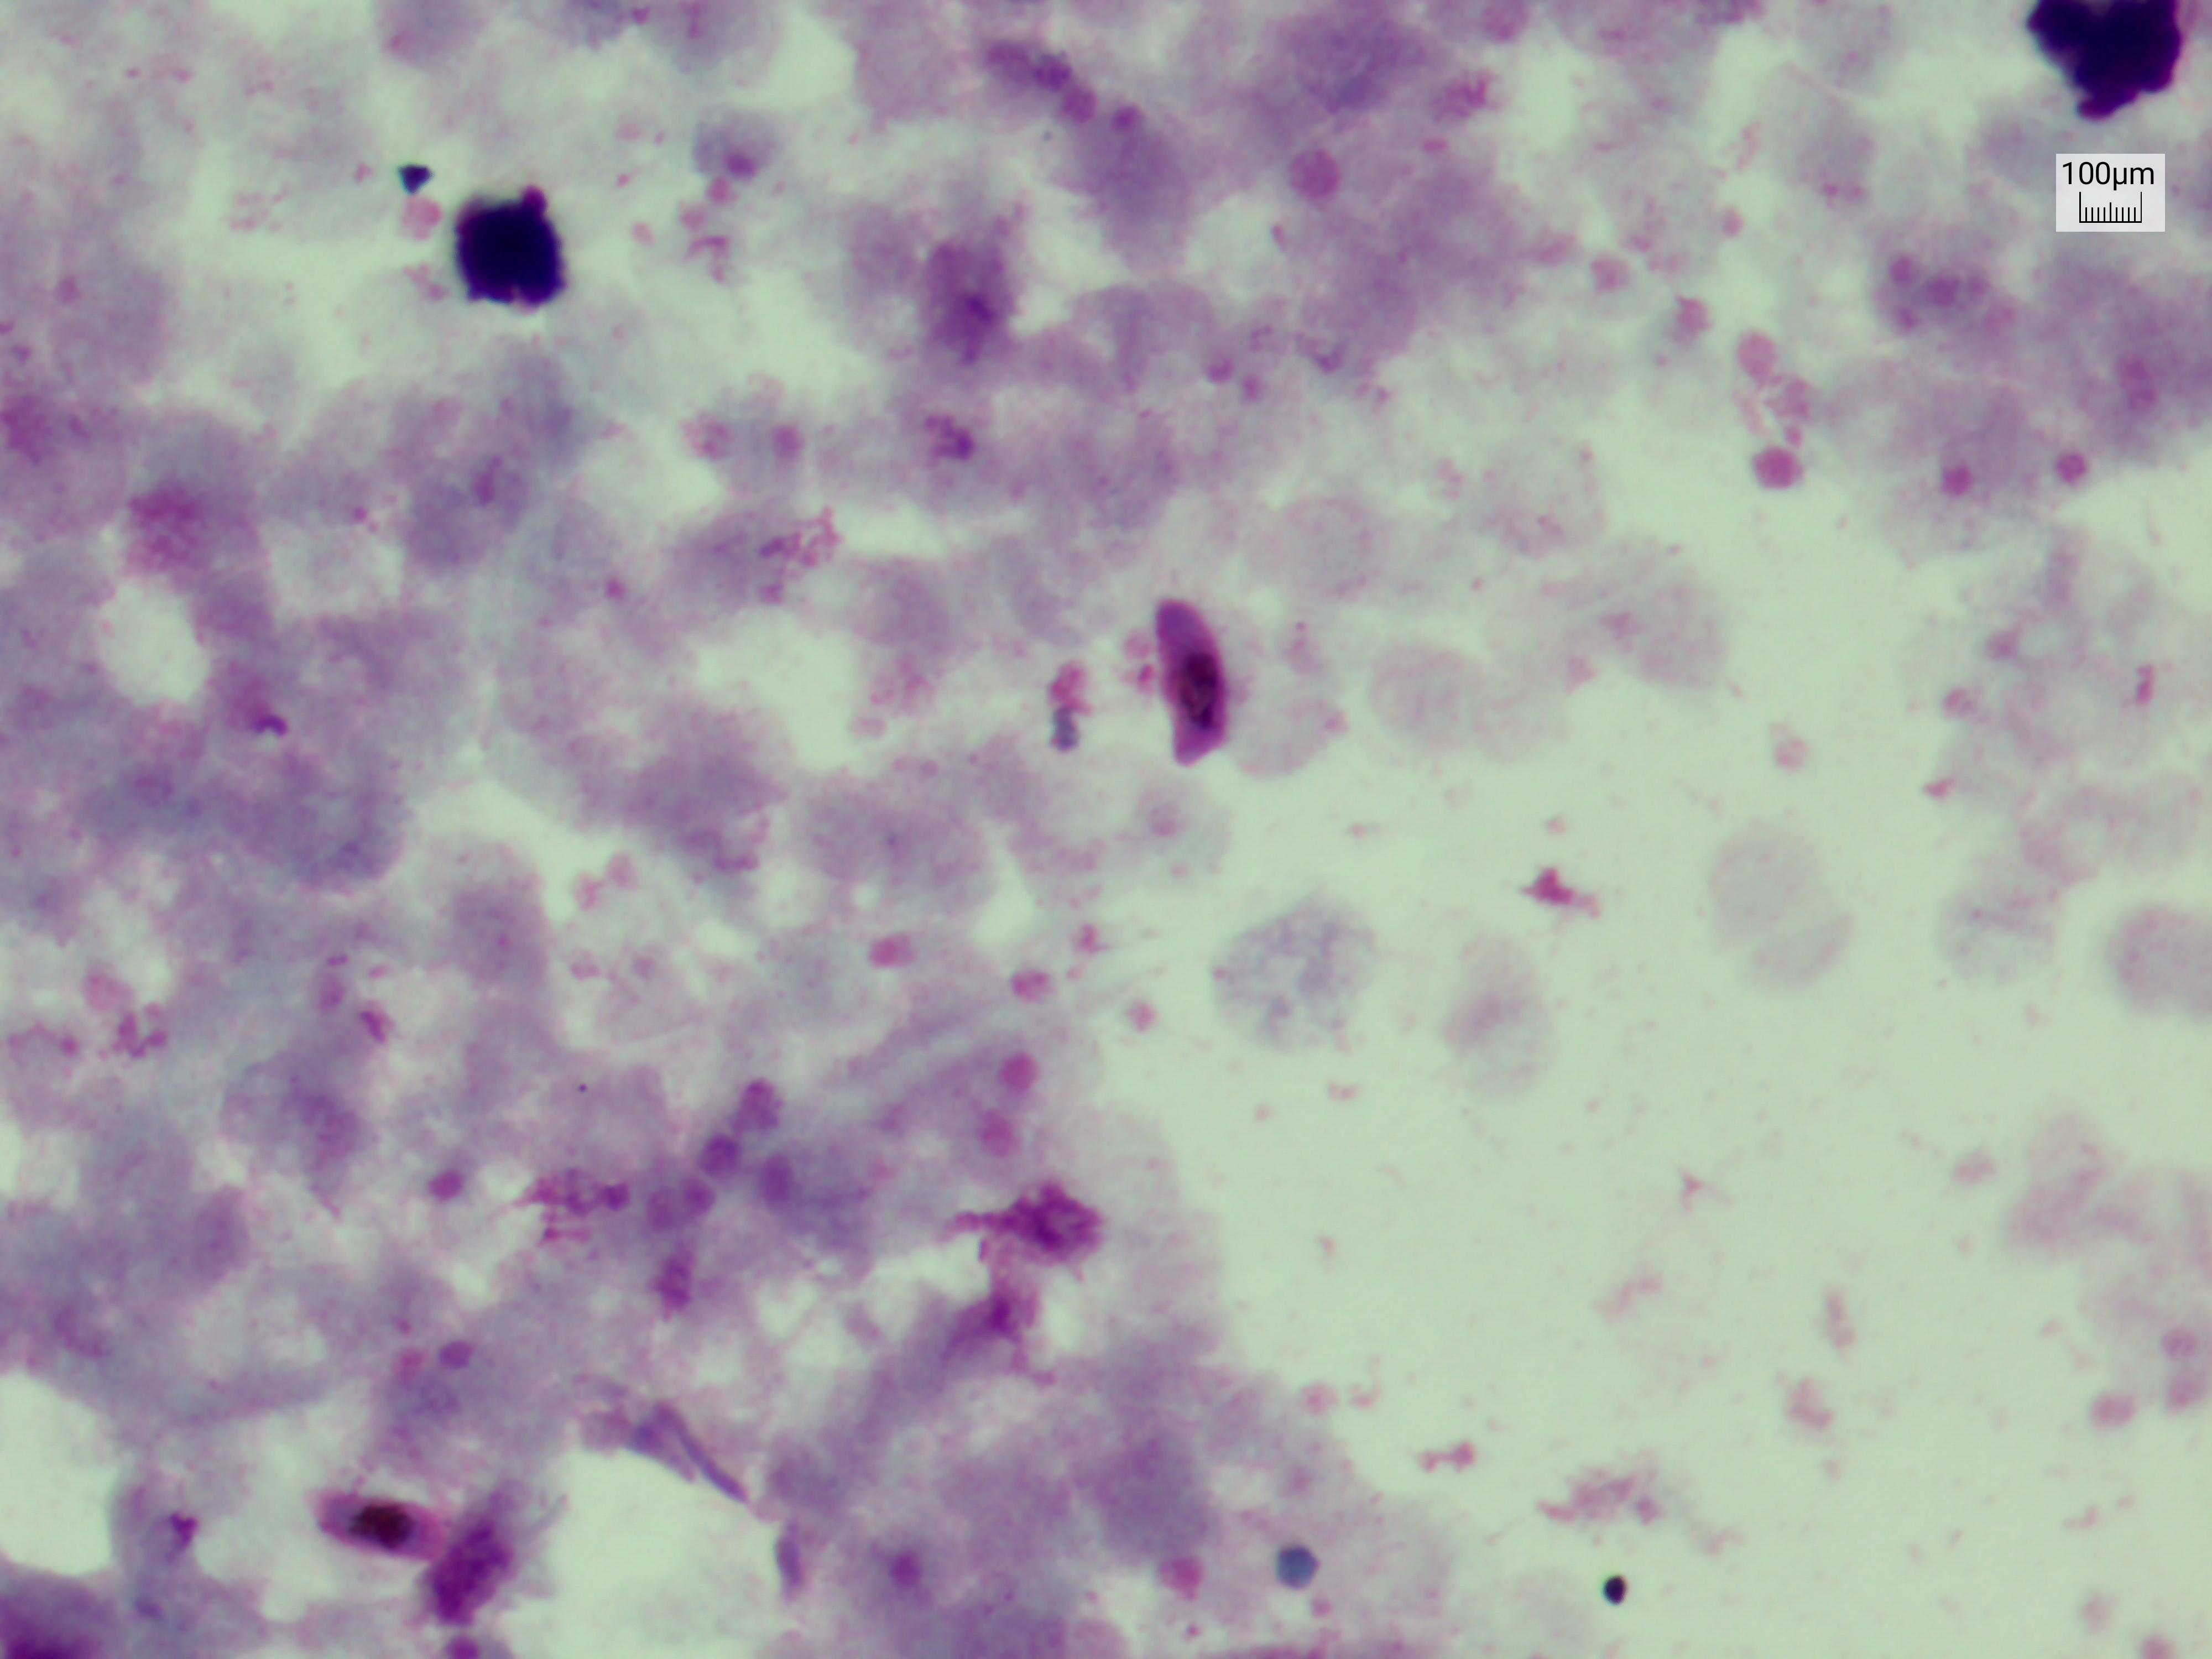p.falciparum: (1111, 559, 1259, 807), (298, 1469, 507, 1582)
